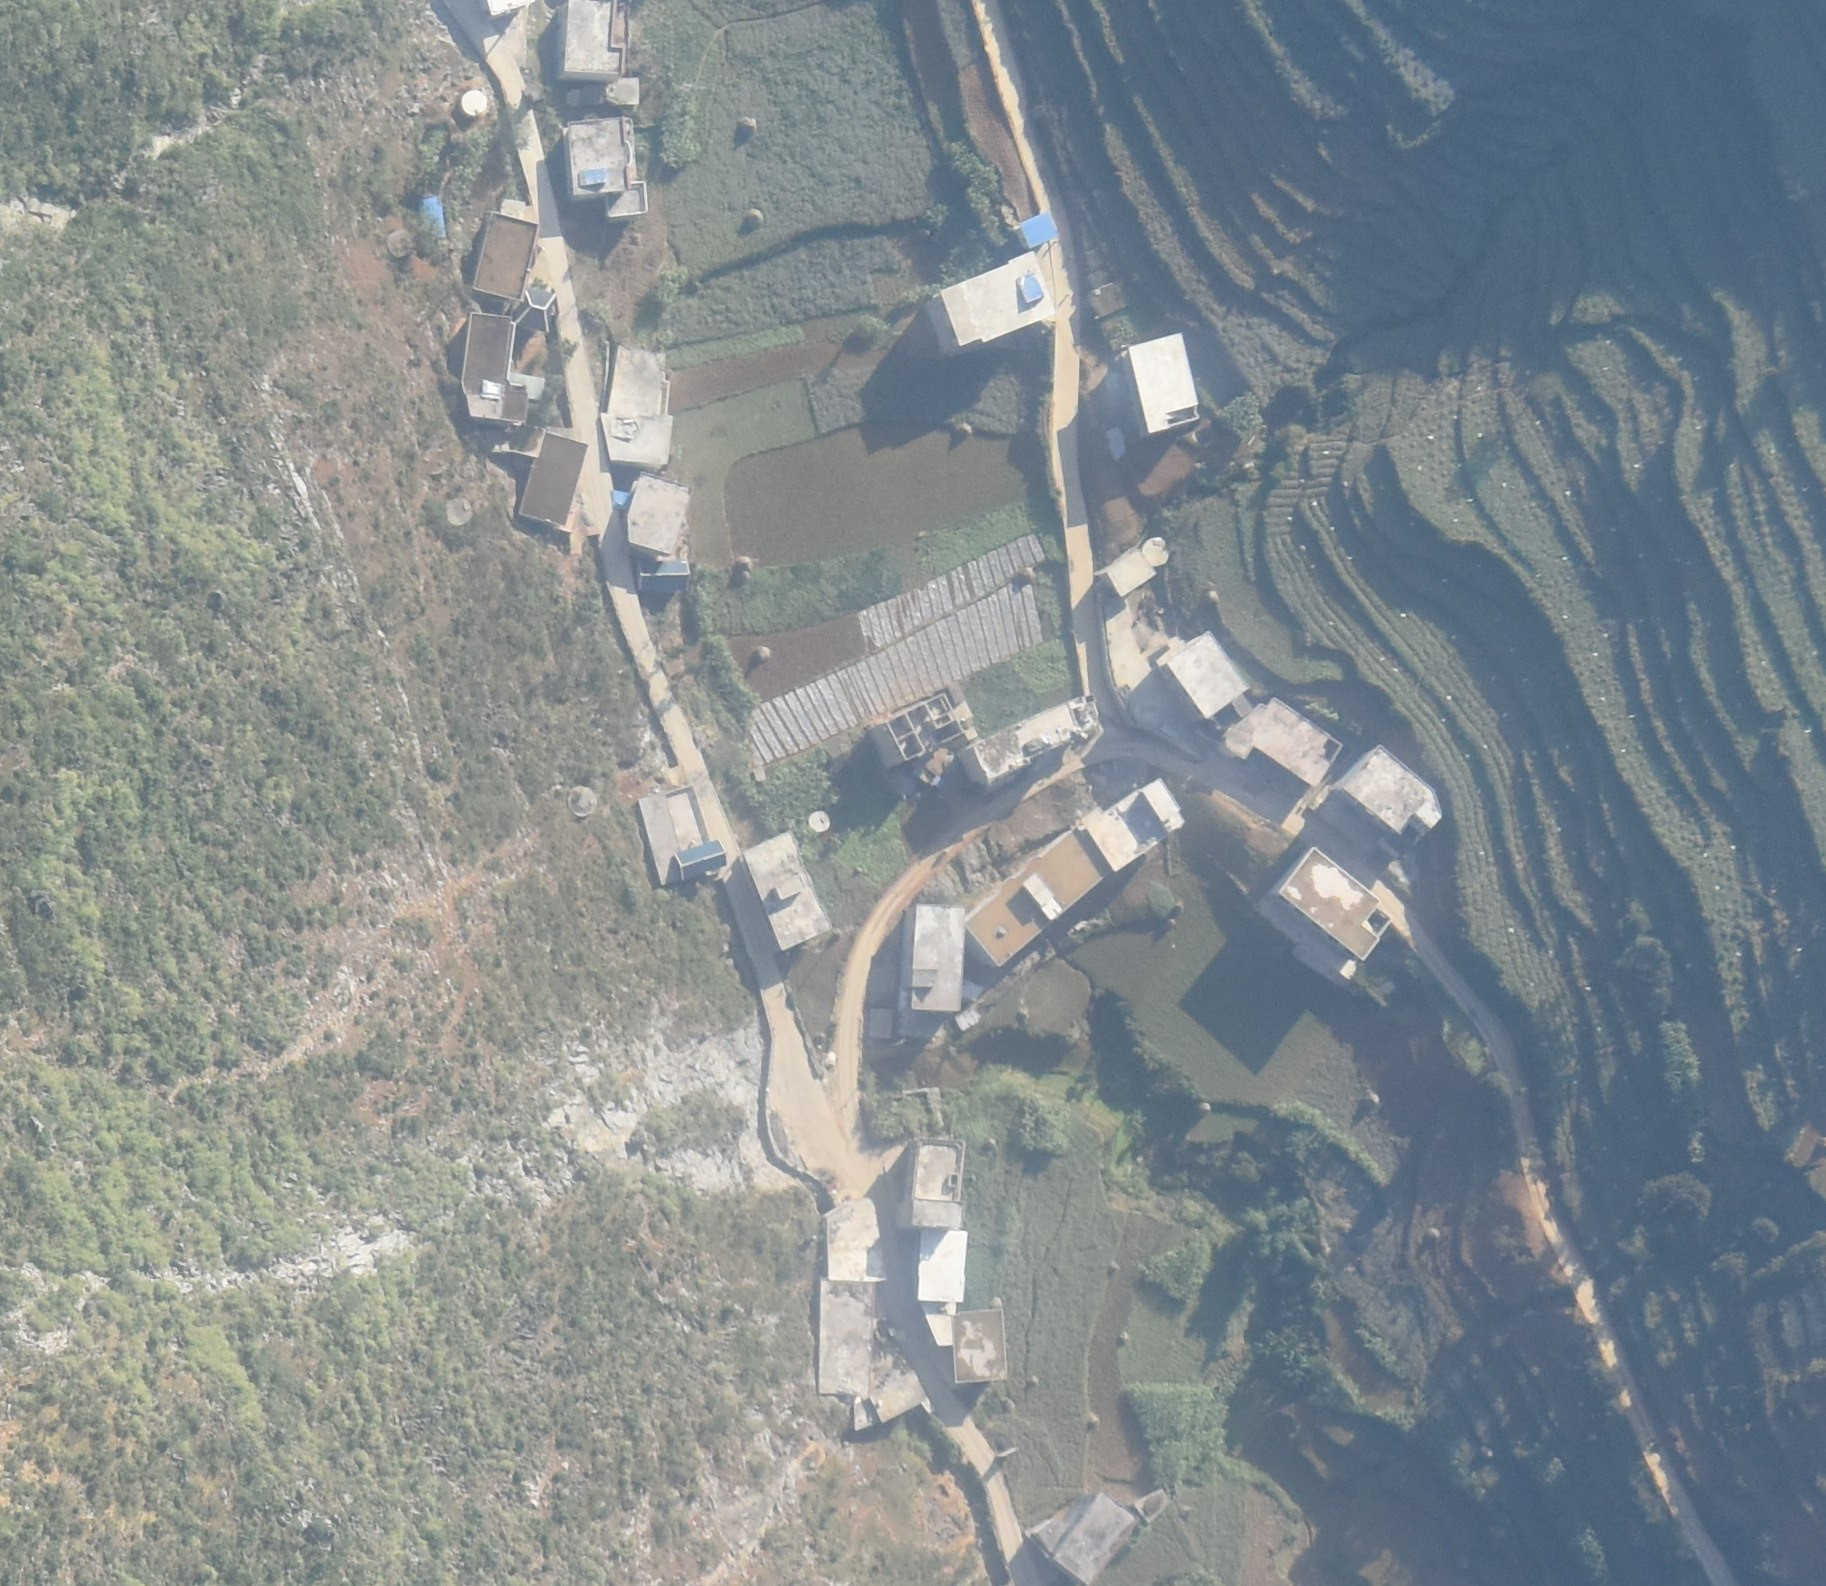building: (967, 774, 1189, 965), (1279, 843, 1391, 965), (817, 1198, 880, 1392), (941, 252, 1054, 350), (741, 833, 831, 954), (974, 694, 1098, 780), (1228, 699, 1338, 789), (1340, 746, 1444, 834), (1029, 1490, 1140, 1572), (601, 345, 674, 466), (565, 118, 647, 221), (460, 311, 528, 426), (565, 2, 641, 104), (1127, 332, 1199, 435), (514, 430, 588, 527), (1168, 632, 1250, 718), (470, 211, 537, 304), (911, 903, 964, 1011), (882, 694, 964, 760), (627, 474, 691, 551), (915, 1139, 964, 1230), (950, 1309, 1008, 1386), (915, 1232, 967, 1303), (1102, 547, 1157, 598), (873, 1375, 929, 1424), (674, 839, 728, 881), (519, 286, 557, 332), (638, 561, 691, 590)
prefabricated-house: (1019, 214, 1057, 249), (422, 196, 446, 245)
well: (1141, 536, 1171, 569), (387, 227, 416, 259), (568, 788, 598, 819), (460, 90, 491, 117), (447, 499, 472, 530), (807, 812, 831, 833)
